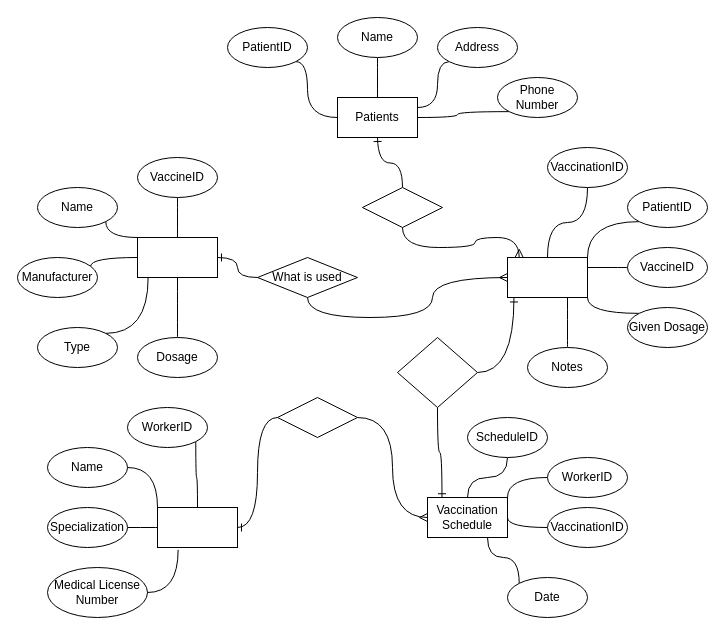
The diagram is 725 pixels wide and 635 high, and some of its shapes have lost their labels. The centre of each missing label's shape, as x and y in pixels:
"Healthcare Workers" goes at point (197, 527).
"Vaccinations" goes at point (547, 277).
"Vaccines" goes at point (177, 257).
"What vaccination" goes at point (437, 372).
"What worker" goes at point (317, 417).
"Who" goes at point (402, 207).
